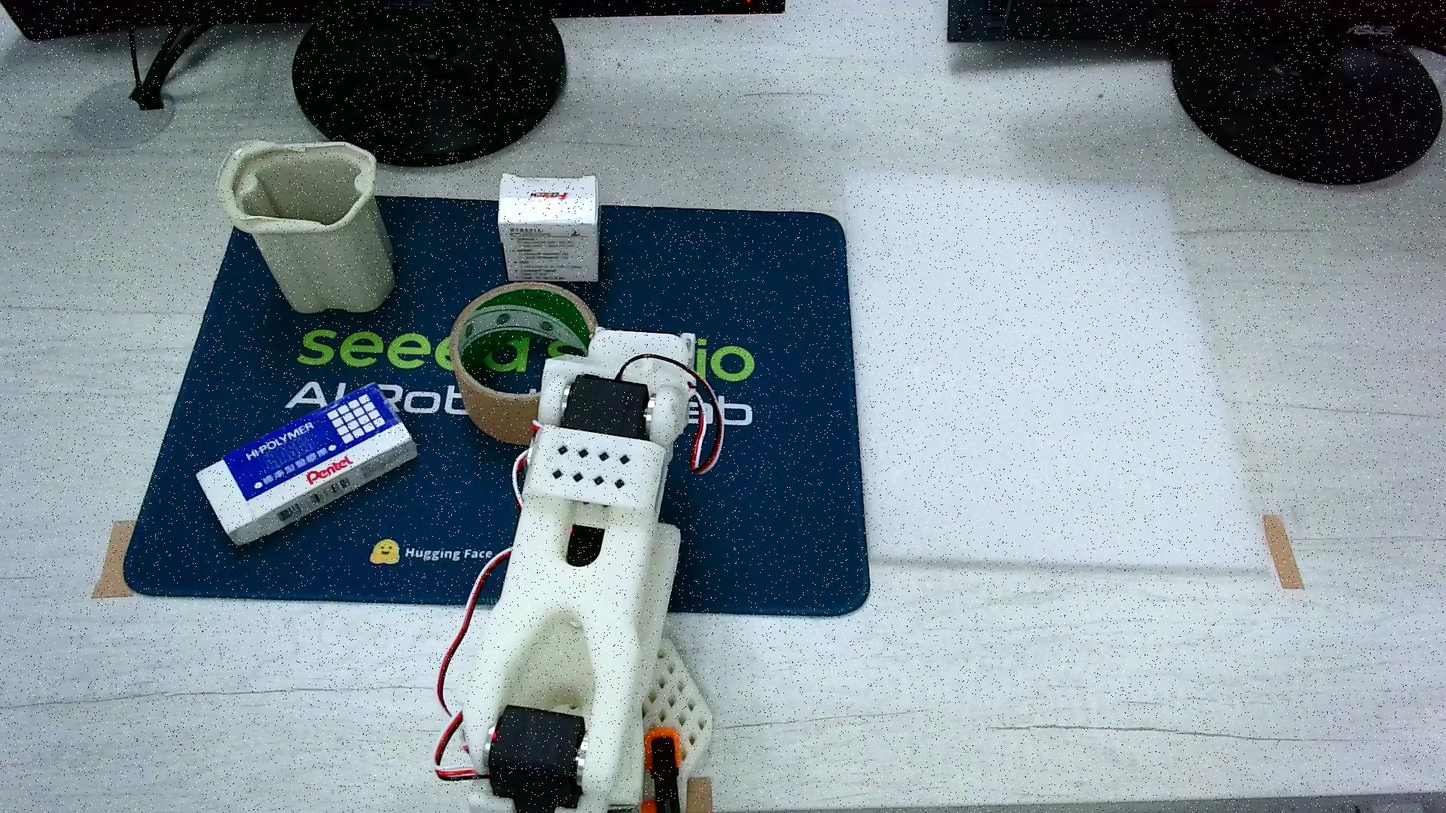eraser: (498, 174, 599, 280)
